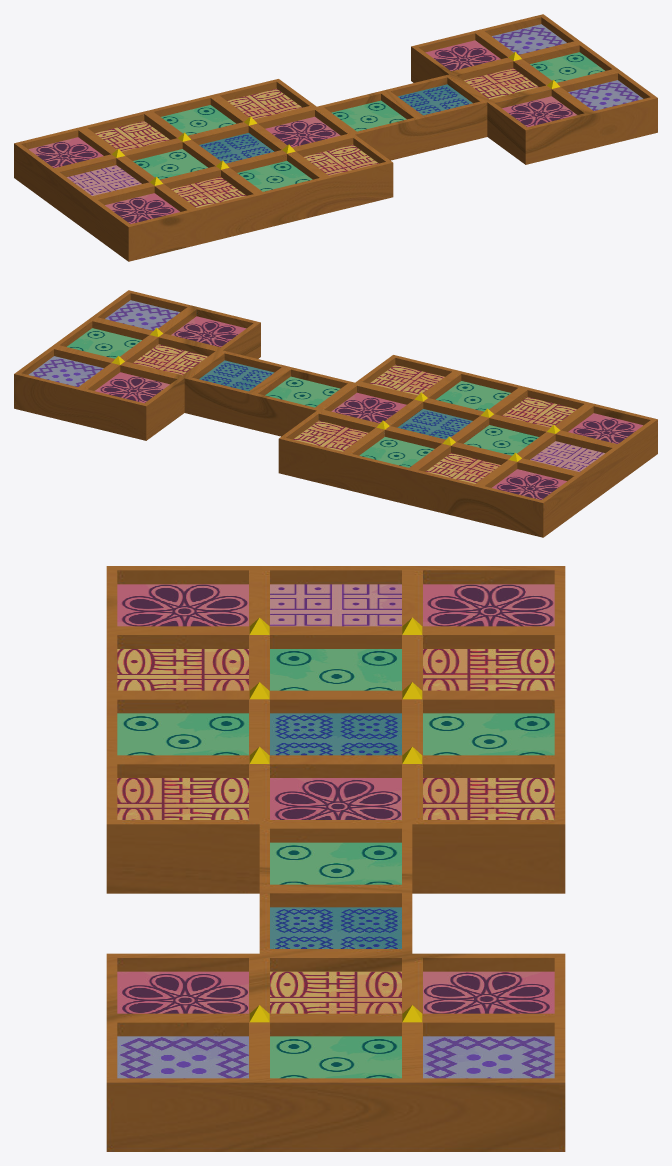
File: UR_Board.glb
3 views of the same model, one above another, from view 1: azimuth 30°, elevation 25°; view 2: azimuth 150°, elevation 25°; view 3: azimuth 270°, elevation 25° (orthographic). The views are drawn at different scales.
Parts seen in each view (by area): view 1: BoardGame; view 2: BoardGame; view 3: BoardGame.
Part boxes in pixels (<box>): BoardGame: <box>14,14,657,261</box>; BoardGame: <box>14,290,657,537</box>; BoardGame: <box>106,566,565,1151</box>.
Bounding box in the file's own units: 1600 × 119 × 600.
Materials: 15 (7 with a texture image).
